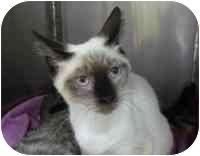siamese: (29, 5, 139, 118)
